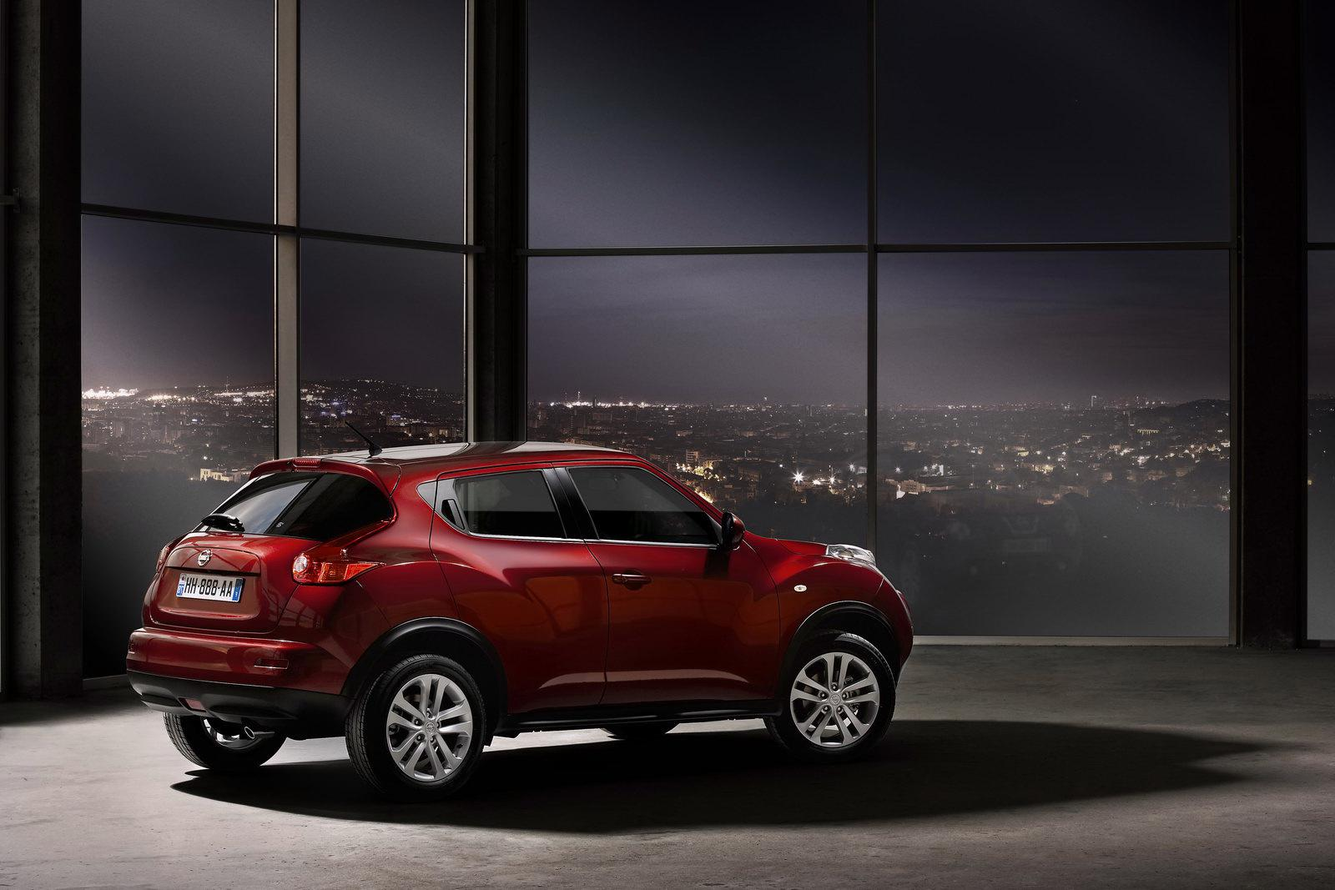Car: (94, 411, 939, 840)
